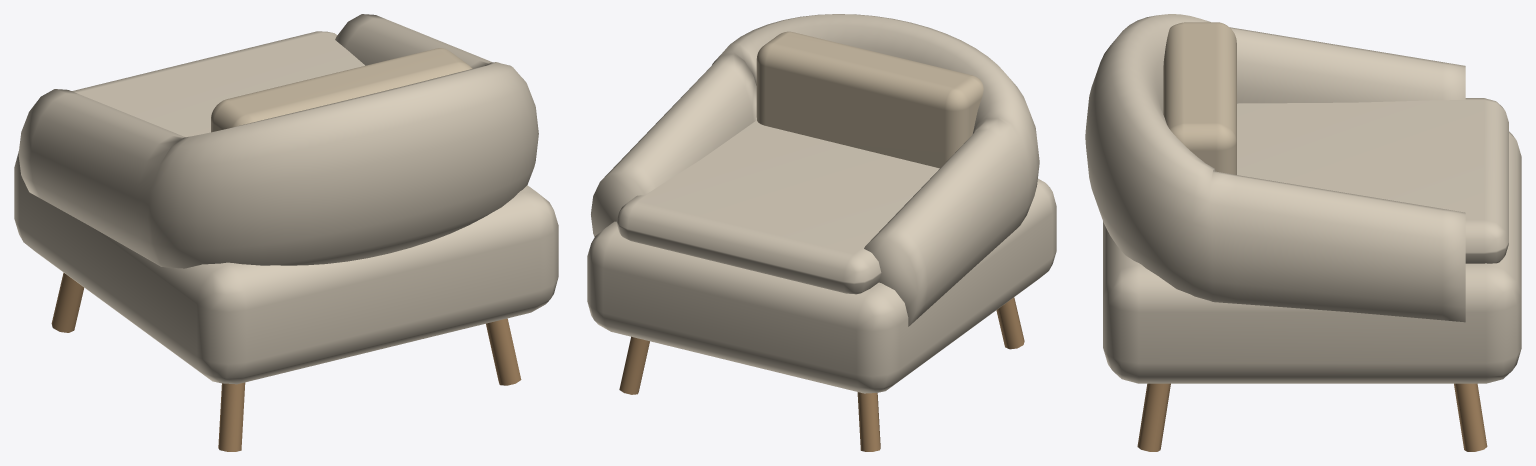
The model's file is linen-lounge-chair.glb.
The picture shows the model from 3 angles, left to right: view 1: azimuth 30°, elevation 25°; view 2: azimuth 150°, elevation 25°; view 3: azimuth 270°, elevation 25°; orthographic projection. The views are drawn at different scales.
Parts seen in each view (by area): view 1: Mood linen ivory, Mood linen oat, Mood oak board; view 2: Mood linen ivory, Mood linen oat, Mood oak board; view 3: Mood linen ivory, Mood linen oat, Mood oak board.
Part boxes in pixels (bbox=[...]): Mood linen ivory: bbox=[14, 14, 558, 384]; Mood linen oat: bbox=[211, 48, 472, 132]; Mood oak board: bbox=[51, 272, 521, 451]; Mood linen ivory: bbox=[587, 14, 1056, 393]; Mood linen oat: bbox=[756, 31, 983, 168]; Mood oak board: bbox=[619, 297, 1024, 451]; Mood linen ivory: bbox=[1085, 14, 1521, 383]; Mood linen oat: bbox=[1163, 22, 1236, 174]; Mood oak board: bbox=[1137, 383, 1487, 451].
Bounding box in the file's own units: 0.84 × 0.7036 × 0.855.
